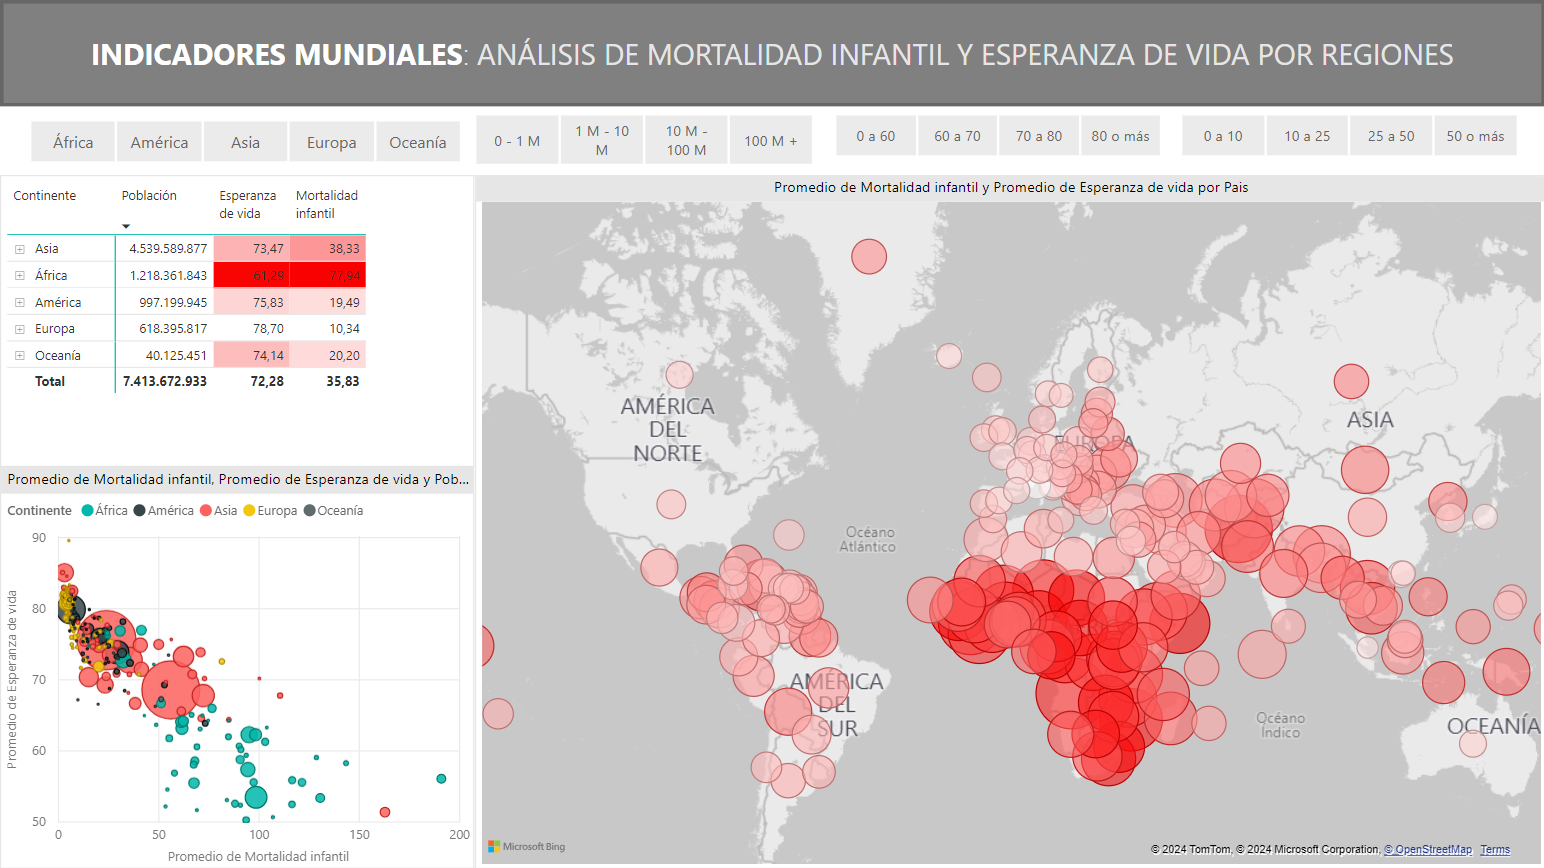

This screenshot's page, from the dashboard's own definition file:
{"tool":"powerbi","page":{"name":"Indicadores mundiales","canvas":[1280,720],"ordinal":1},"visuals":[{"type":"pivotTable","fields":{"Rows":["Paises.Continente","Paises.Pais"],"Values":["Sum(Population.Población)","Avg(Esperanza de vida.Esperanza de vida)","Avg(Mortalidad infantil.Mortalidad infantil)"]},"box":[0,145,393.3,241.7],"z":0},{"type":"slicer","fields":{"Values":["Population.Cantidad Población"]},"box":[368.3,88.3,328.3,46.7],"z":1000},{"type":"slicer","fields":{"Values":["Paises.Continente"]},"box":[0,93.9,405,46.7],"z":2000},{"type":"map","fields":{"Category":["Paises.Pais"],"Size":["Avg(Mortalidad infantil.Mortalidad infantil)"]},"box":[393.3,145,886.7,575],"z":3000},{"type":"slicer","fields":{"Values":["Esperanza de vida.Esperanza de vida (Años promedio)"]},"box":[666.7,88.3,318.3,46.7],"z":4000},{"type":"slicer","fields":{"Values":["Mortalidad infantil.Mortalidad infantil (Muertes cada 1000 niños)"]},"box":[953.3,88.3,326.7,46.7],"z":5000},{"type":"scatterChart","fields":{"Category":["Paises.Pais"],"X":["Avg(Mortalidad infantil.Mortalidad infantil)"],"Y":["Avg(Esperanza de vida.Esperanza de vida)"],"Series":["Paises.Continente"],"Size":["Sum(Población.Población)"]},"box":[0,386.7,393.3,333.3],"z":6000},{"type":"shape","box":[0,0,1280,88.3],"z":7000},{"type":"textbox","box":[0,23.3,1280,65],"z":8000}]}

Visuals, with their boxes in screenshot pixels (x1, y1, x2, y2), scaled from the page's 1280x720 canvas onto the 1544x868 screenshot:
pivotTable - Paises.Continente x Paises.Pais: (x1=0, y1=175, x2=474, y2=466)
slicer - Population.Cantidad Población: (x1=444, y1=106, x2=840, y2=163)
slicer - Paises.Continente: (x1=0, y1=113, x2=489, y2=170)
map - Paises.Pais x Avg(Mortalidad infantil.Mortalidad infantil): (x1=474, y1=175, x2=1543, y2=867)
slicer - Esperanza de vida.Esperanza de vida (Años promedio): (x1=804, y1=106, x2=1188, y2=163)
slicer - Mortalidad infantil.Mortalidad infantil (Muertes cada 1000 niños): (x1=1150, y1=106, x2=1543, y2=163)
scatterChart - Paises.Pais x Avg(Mortalidad infantil.Mortalidad infantil): (x1=0, y1=466, x2=474, y2=867)
shape: (x1=0, y1=0, x2=1543, y2=106)
textbox: (x1=0, y1=28, x2=1543, y2=106)
